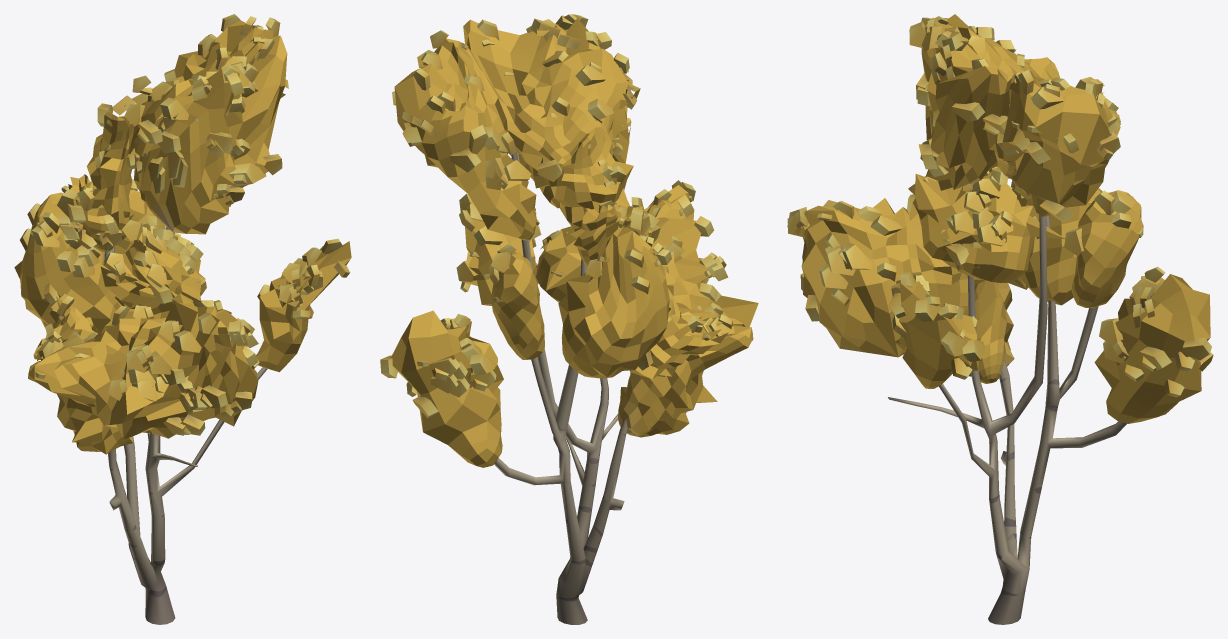
The model's file is Tree_Birch.glb.
The picture shows the model from 3 angles, left to right: view 1: azimuth 30°, elevation 25°; view 2: azimuth 150°, elevation 25°; view 3: azimuth 270°, elevation 25°; orthographic projection. The views are drawn at different scales.
Visible parts, largest first — view 1: Tree_Birch; view 2: Tree_Birch; view 3: Tree_Birch.
Boxes of the visible parts, box(x1,y1,x2,y2) form: Tree_Birch: box(14, 14, 351, 624); Tree_Birch: box(380, 14, 758, 624); Tree_Birch: box(787, 14, 1213, 624).
Bounding box in the file's own units: 8.89 × 15.93 × 9.94.
